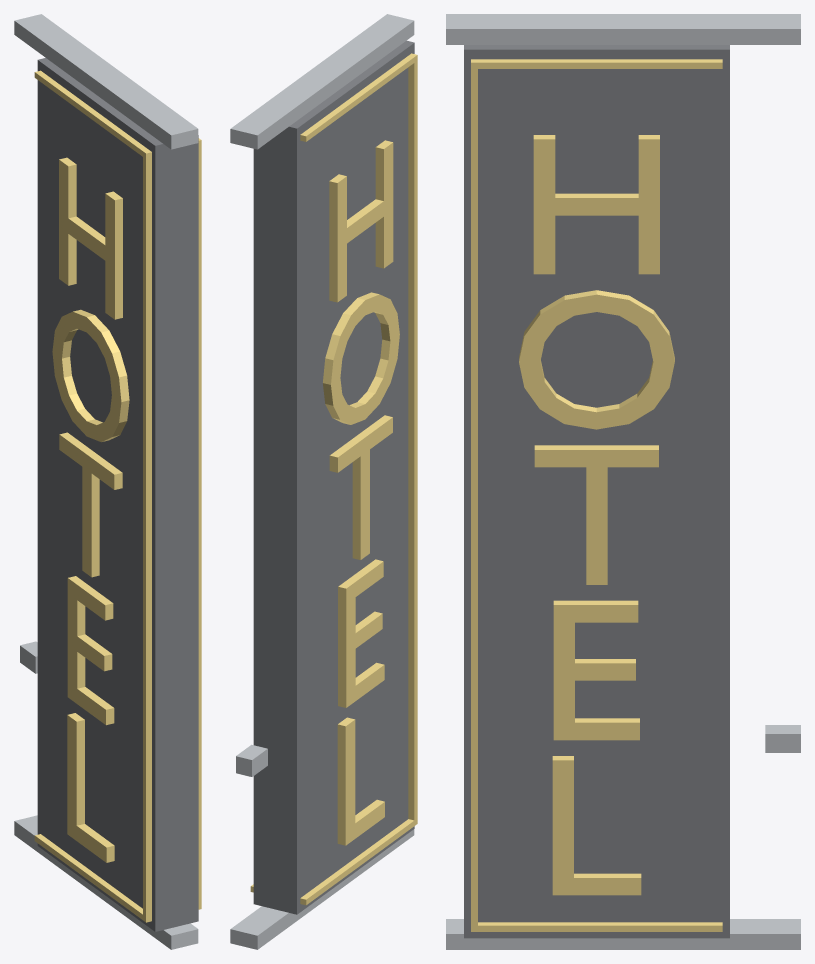
File: neon_hotel.glb
3 renders of one model, left to right at view 1: azimuth 30°, elevation 25°; view 2: azimuth 150°, elevation 25°; view 3: azimuth 270°, elevation 25°, orthographic. The views are drawn at different scales.
Visible parts, largest first — view 1: neon_hotel; view 2: neon_hotel; view 3: neon_hotel.
Boxes of the visible parts, left/top/right/bottom form: neon_hotel: left=14, top=14, right=201, bottom=949; neon_hotel: left=230, top=14, right=417, bottom=949; neon_hotel: left=446, top=14, right=800, bottom=949.
Bounding box in the file's own units: 0.23 × 2.87 × 1.
